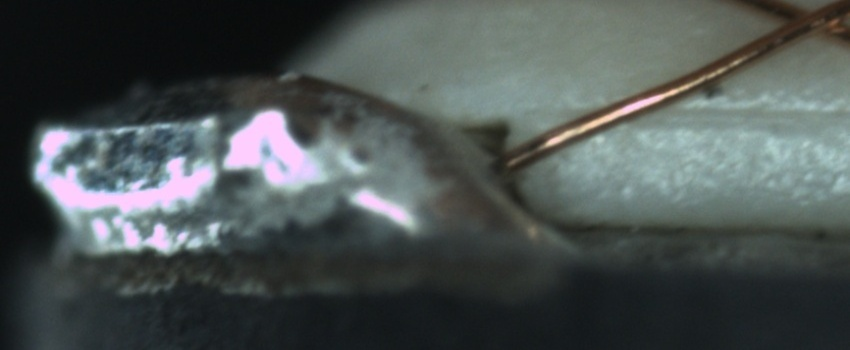CL: (761, 0, 845, 45)
DL: (559, 81, 848, 147)
